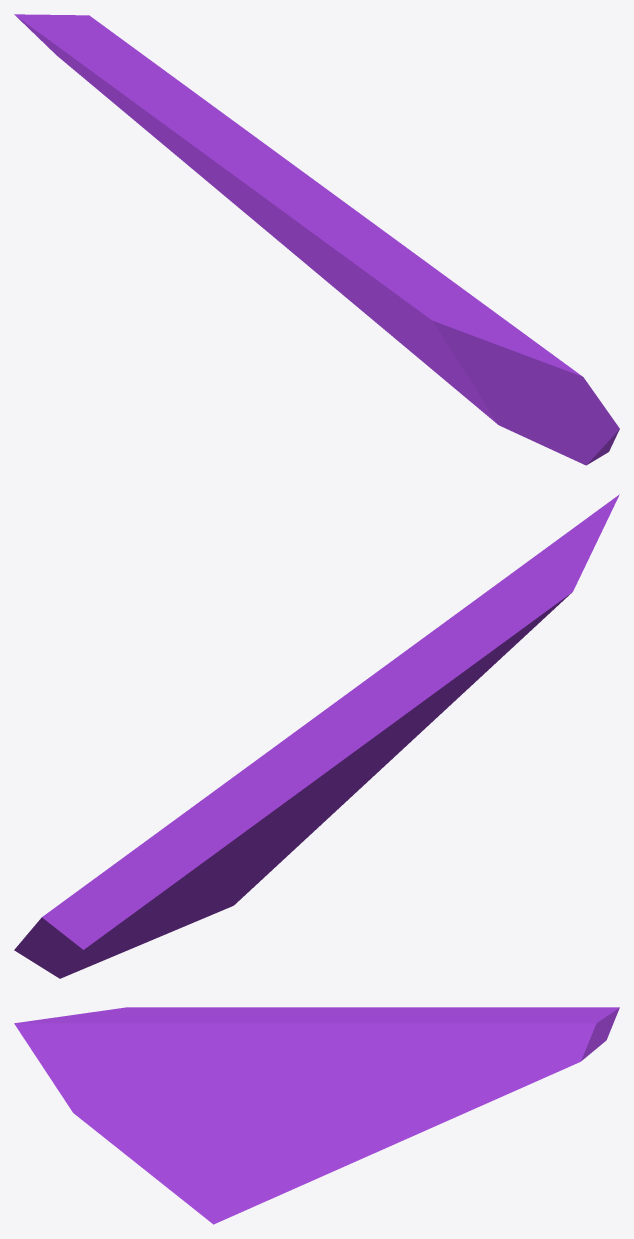
File: Window_118_3_chunks.fbx
3 renders of one model, top to bottom at view 1: azimuth 30°, elevation 25°; view 2: azimuth 150°, elevation 25°; view 3: azimuth 270°, elevation 25°, orthographic. The views are drawn at different scales.
Parts seen in each view (by area): view 1: Window_118_3_6, Window_118_3_12, Window_118_3_0, Window_118_3_15, Window_118_3_2, Window_118_3_5, Window_118_3_4, Window_118_3_13, Window_118_3_9, Window_118_3_10, Window_118_3_14, Window_118_3_8 (+1 smaller); view 2: Window_118_3_12, Window_118_3_15, Window_118_3_6, Window_118_3_0, Window_118_3_2, Window_118_3_4, Window_118_3_13, Window_118_3_5, Window_118_3_14, Window_118_3_8; view 3: Window_118_3_6, Window_118_3_15, Window_118_3_8, Window_118_3_2, Window_118_3_7, Window_118_3_13, Window_118_3_14, Window_118_3_9, Window_118_3_10, Window_118_3_3, Window_118_3_12, Window_118_3_4 (+3 smaller).
Boxes of the visible parts, box(x1,y1,x2,y2) form: Window_118_3_6: box(393, 277, 619, 446); Window_118_3_12: box(51, 41, 253, 197); Window_118_3_0: box(214, 147, 330, 258); Window_118_3_15: box(14, 14, 257, 223); Window_118_3_2: box(316, 188, 450, 279); Window_118_3_5: box(399, 331, 583, 437); Window_118_3_4: box(320, 258, 442, 350); Window_118_3_13: box(230, 193, 371, 318); Window_118_3_9: box(450, 384, 610, 465); Window_118_3_10: box(454, 382, 613, 460); Window_118_3_14: box(221, 112, 263, 152); Window_118_3_8: box(364, 305, 456, 385); Window_118_3_12: box(126, 773, 316, 918); Window_118_3_15: box(14, 849, 178, 978); Window_118_3_6: box(415, 494, 619, 737); Window_118_3_0: box(264, 691, 436, 806); Window_118_3_2: box(318, 608, 492, 720); Window_118_3_4: box(240, 620, 526, 875); Window_118_3_13: box(140, 795, 307, 944); Window_118_3_5: box(254, 732, 417, 876); Window_118_3_14: box(196, 767, 283, 804); Window_118_3_8: box(184, 875, 256, 926); Window_118_3_6: box(14, 1007, 203, 1164); Window_118_3_15: box(434, 1007, 619, 1124); Window_118_3_8: box(290, 1087, 387, 1175); Window_118_3_2: box(170, 1007, 321, 1061); Window_118_3_7: box(138, 1079, 280, 1175); Window_118_3_13: box(341, 1065, 437, 1146); Window_118_3_14: box(358, 1014, 461, 1086); Window_118_3_9: box(185, 1162, 323, 1224); Window_118_3_10: box(152, 1111, 257, 1201); Window_118_3_3: box(299, 1019, 389, 1088); Window_118_3_12: box(385, 1007, 575, 1044); Window_118_3_4: box(173, 1007, 292, 1095).
Bounding box in the file's own units: 397 × 382 × 1411.
